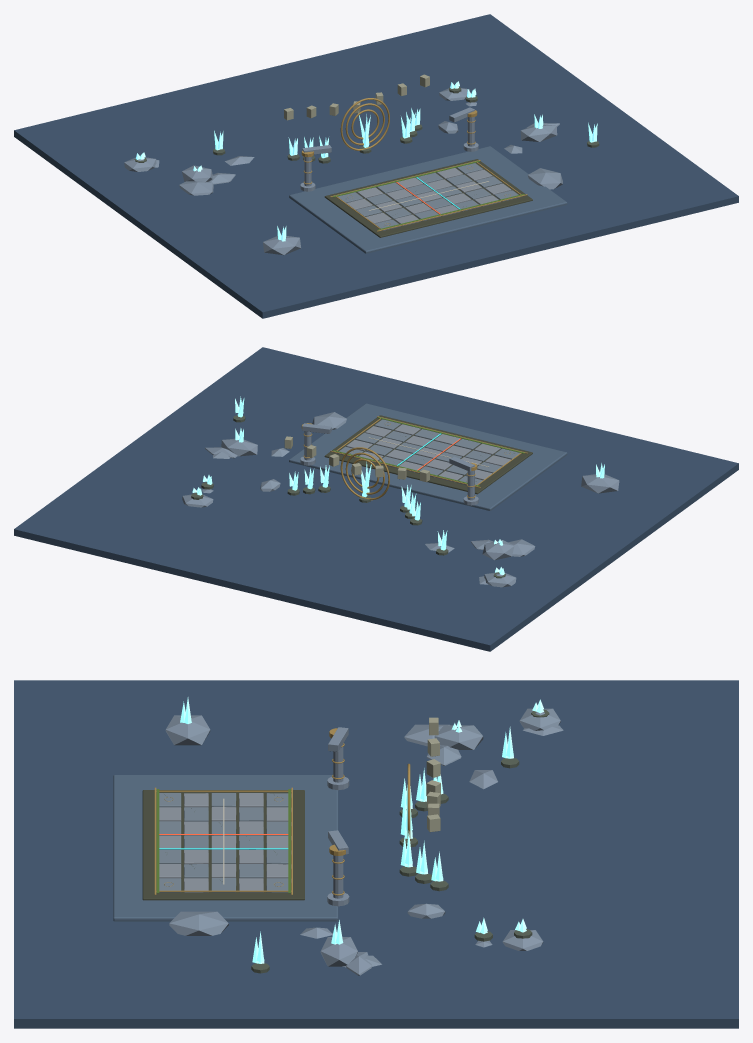
The model's file is paradox_reactor.glb.
The picture shows the model from 3 angles, top to bottom: view 1: azimuth 30°, elevation 25°; view 2: azimuth 150°, elevation 25°; view 3: azimuth 270°, elevation 25°; orthographic projection. The views are drawn at different scales.
Parts seen in each view (by area): view 1: BattleWorldGround, BattleMeadow, ArenaTiles, Architecture, ArenaBase, Energy, ArenaBorders, MovingFloat; view 2: BattleWorldGround, BattleMeadow, Architecture, ArenaTiles, Energy, ArenaBase, ArenaBorders, MovingFloat; view 3: BattleWorldGround, BattleMeadow, ArenaTiles, Architecture, ArenaBase, Energy, ArenaBorders, MovingFloat.
Part boxes in pixels (left/top/right/bottom): BattleWorldGround: left=14, top=14, right=738, bottom=318; BattleMeadow: left=289, top=146, right=567, bottom=253; ArenaTiles: left=337, top=163, right=520, bottom=230; Architecture: left=124, top=88, right=562, bottom=255; ArenaBase: left=324, top=159, right=532, bottom=237; Energy: left=134, top=81, right=599, bottom=241; ArenaBorders: left=330, top=160, right=527, bottom=231; MovingFloat: left=284, top=74, right=429, bottom=120; BattleWorldGround: left=14, top=347, right=738, bottom=651; BattleMeadow: left=289, top=403, right=567, bottom=510; Architecture: left=182, top=412, right=619, bottom=587; ArenaTiles: left=337, top=419, right=519, bottom=485; Energy: left=191, top=396, right=604, bottom=578; ArenaBase: left=324, top=415, right=532, bottom=494; ArenaBorders: left=330, top=416, right=527, bottom=487; MovingFloat: left=284, top=436, right=429, bottom=482; BattleWorldGround: left=14, top=680, right=738, bottom=1028; BattleMeadow: left=113, top=775, right=338, bottom=921; ArenaTiles: left=159, top=793, right=291, bottom=892; Architecture: left=165, top=708, right=563, bottom=975; ArenaBase: left=142, top=790, right=304, bottom=900; Energy: left=180, top=697, right=549, bottom=973; ArenaBorders: left=154, top=787, right=292, bottom=894; MovingFloat: left=426, top=717, right=440, bottom=832.
Size of the model in its own units: 42 by 6.37 by 38.
